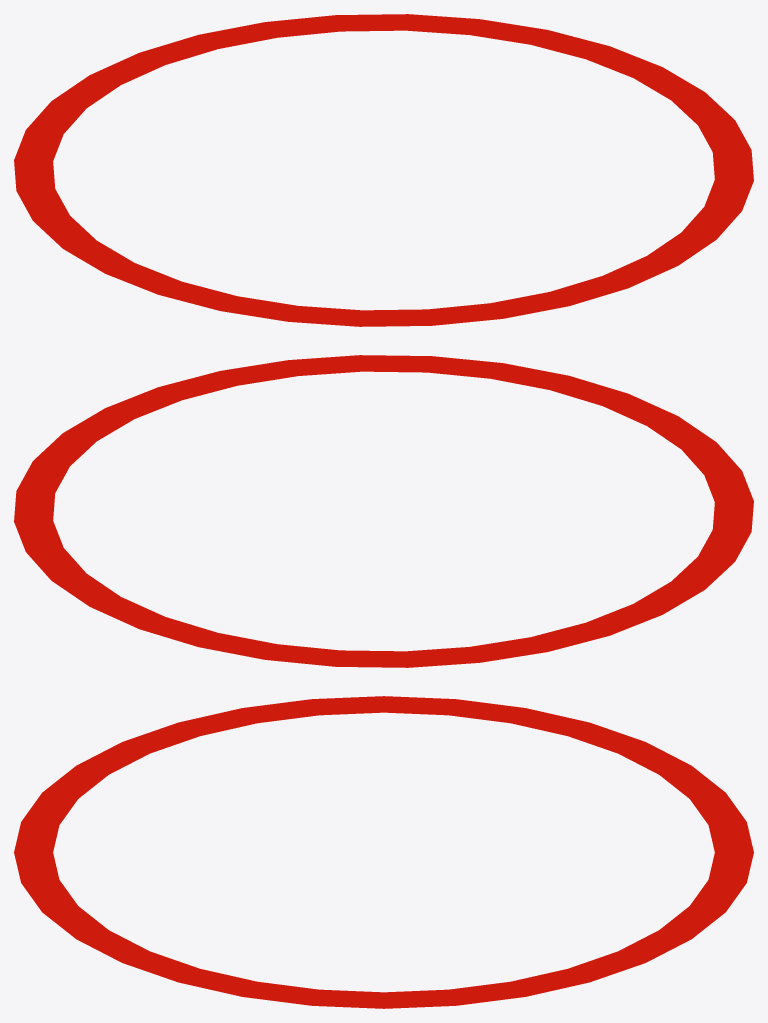
Rendered from pickup_progress.fbx.
3 views of the same model, one above another, from view 1: azimuth 30°, elevation 25°; view 2: azimuth 150°, elevation 25°; view 3: azimuth 270°, elevation 25° (orthographic).
Visible parts, largest first — view 1: pickup_progress; view 2: pickup_progress; view 3: pickup_progress.
Boxes of the visible parts, x1,y1,x2,y2 form: pickup_progress: (14, 14, 753, 326); pickup_progress: (14, 355, 753, 667); pickup_progress: (14, 696, 753, 1008).
Size of the model in its own units: 1.95 by 3.18e-07 by 1.95.
